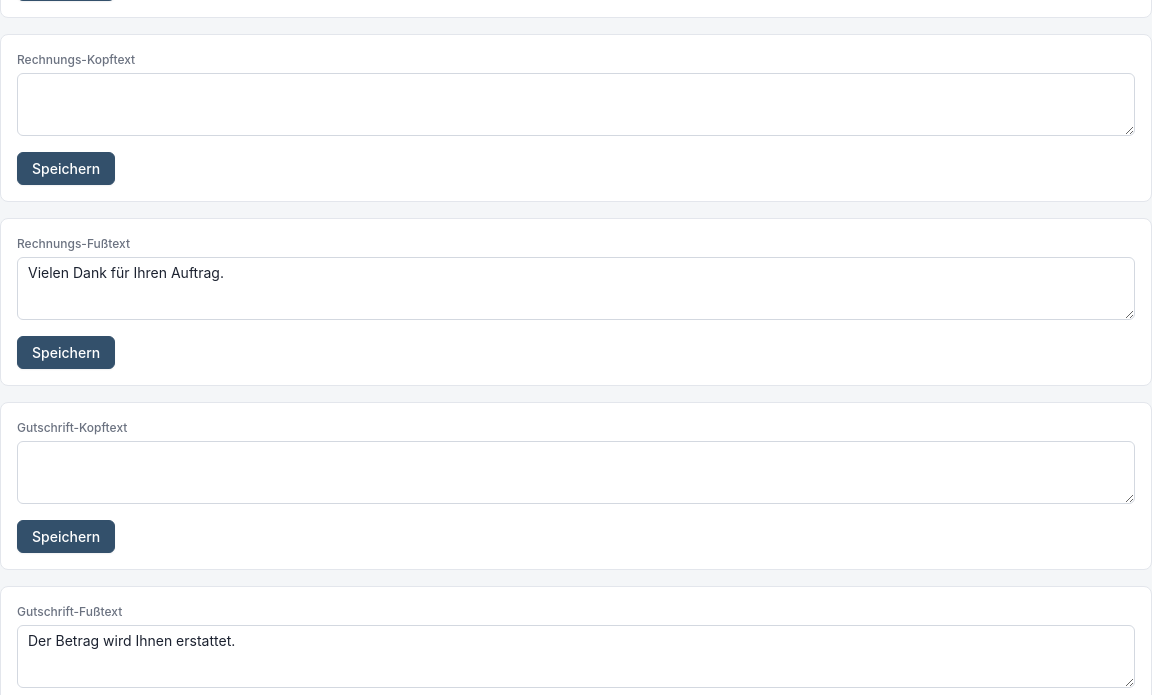
Test: Einstellungen › zeigt nach dem Speichern eines Textbausteins einen Erfolgs-Hinweis mit Feldname
(page scrolled)
Expected: the text box showing "Vielen Dank für Ihren Auftrag." is shown, [17, 257, 1135, 320]
Click the button "Speichern" below "Rechnungs-Fußtext". click: (66, 352)
box: [17, 336, 115, 369]
(page scrolled)
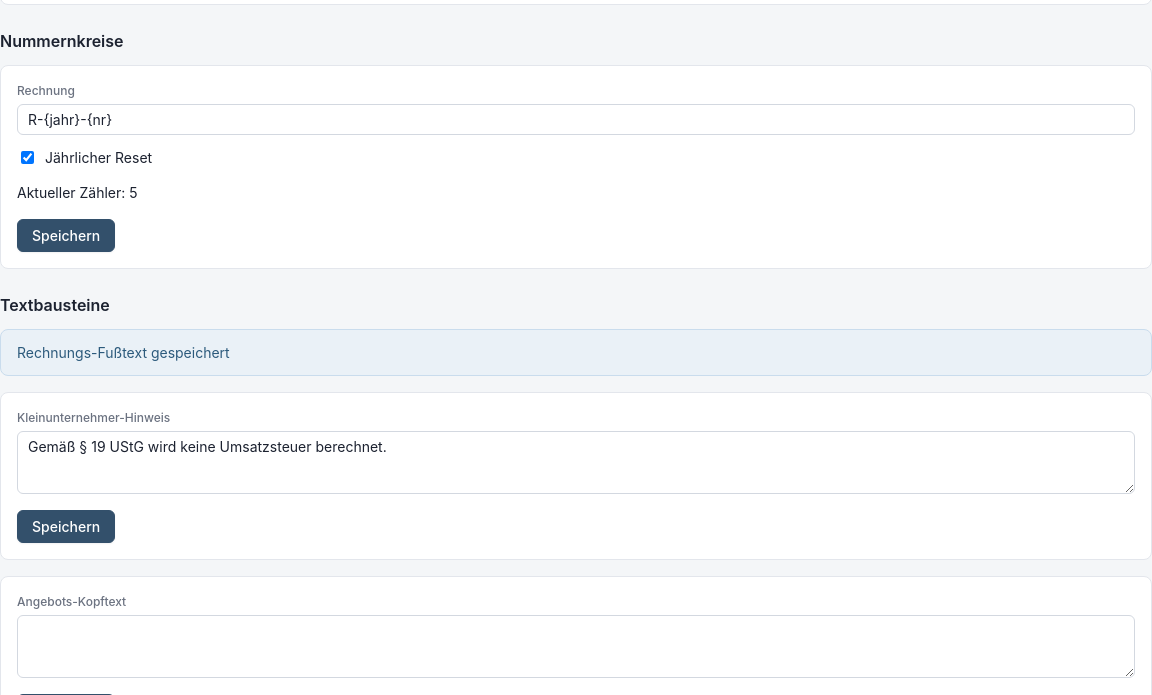
Expected: the text "Rechnungs-Fußtext gespeichert" is shown, [17, 342, 230, 363]
